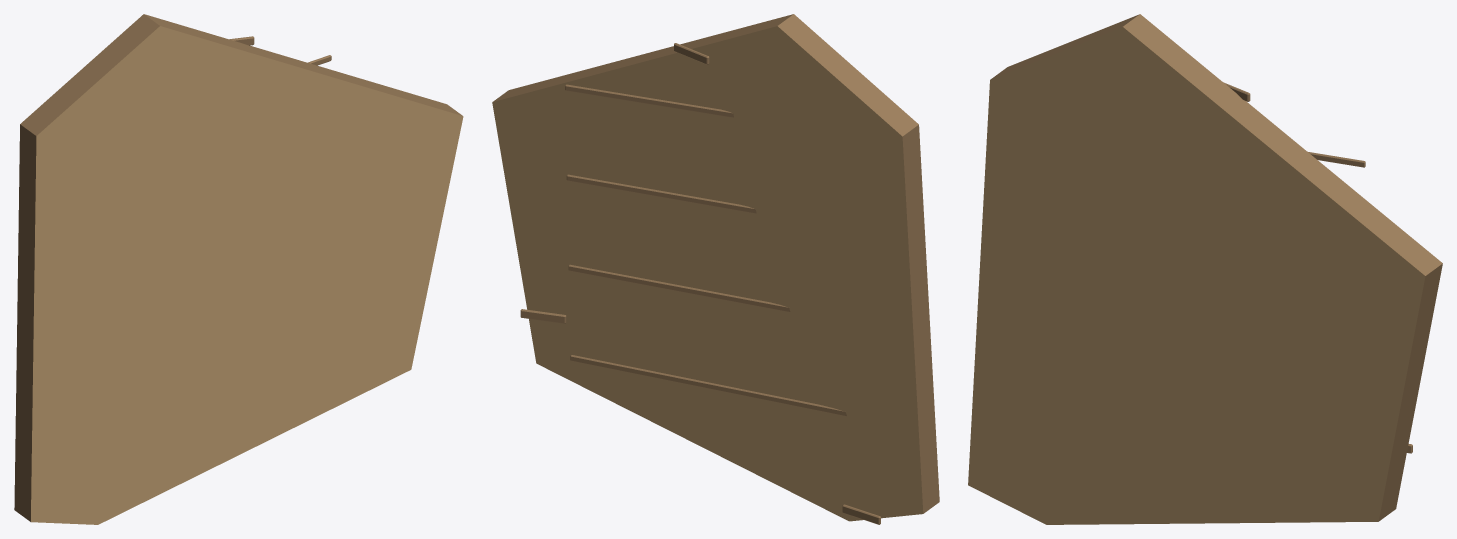
Rendered from cardboard_fin.glb.
3 renders of one model, left to right at view 1: azimuth 30°, elevation 25°; view 2: azimuth 150°, elevation 25°; view 3: azimuth 330°, elevation 25°, orthographic. The views are drawn at different scales.
Parts seen in each view (by area): view 1: Cardboard_Fin_Body; view 2: Cardboard_Fin_Body, Cardboard_Fiber_Line_1, Cardboard_Fiber_Line_2, Cardboard_Fiber_Line_3, Cardboard_Fiber_Line_4; view 3: Cardboard_Fin_Body.
Part boxes in pixels (x1,y1,x2,y2): Cardboard_Fin_Body: (14, 14, 463, 524); Cardboard_Fin_Body: (492, 14, 939, 521); Cardboard_Fiber_Line_1: (570, 355, 846, 415); Cardboard_Fiber_Line_2: (568, 264, 790, 311); Cardboard_Fiber_Line_3: (566, 174, 756, 213); Cardboard_Fiber_Line_4: (565, 84, 733, 117); Cardboard_Fin_Body: (968, 14, 1442, 524).
Bounding box in the file's own units: 0.7894 × 0.8399 × 0.1233.
